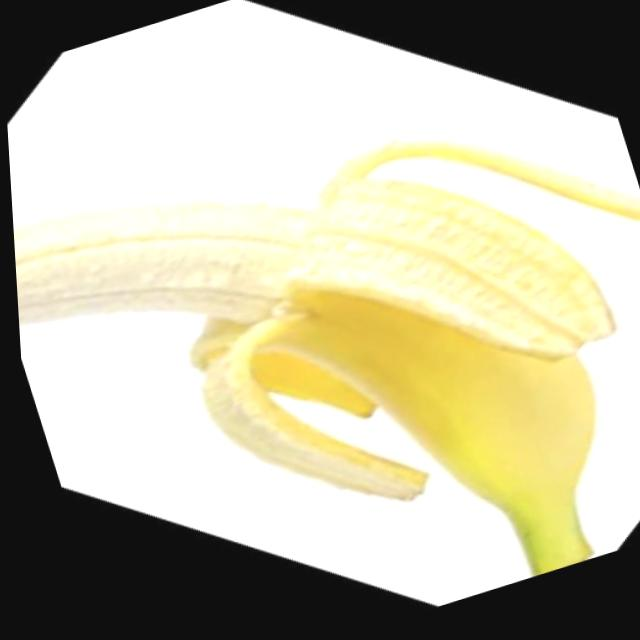Banana: (4, 47, 640, 640)
